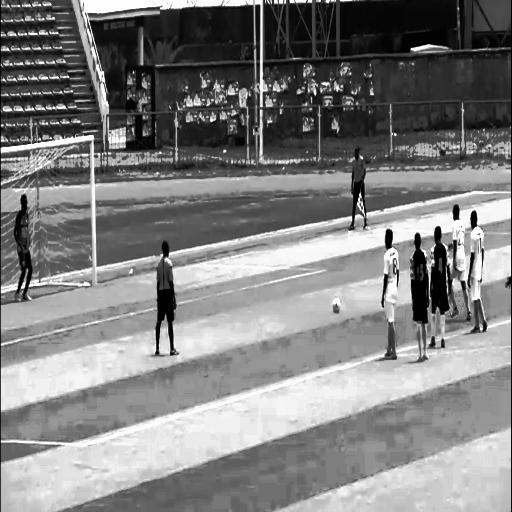ball: (330, 290, 343, 316)
keeper2: (4, 186, 48, 305)
referee: (144, 236, 190, 366), (345, 140, 374, 234)
team1: (446, 198, 495, 344), (370, 223, 406, 370)
team2: (406, 229, 434, 371), (426, 224, 451, 347)
